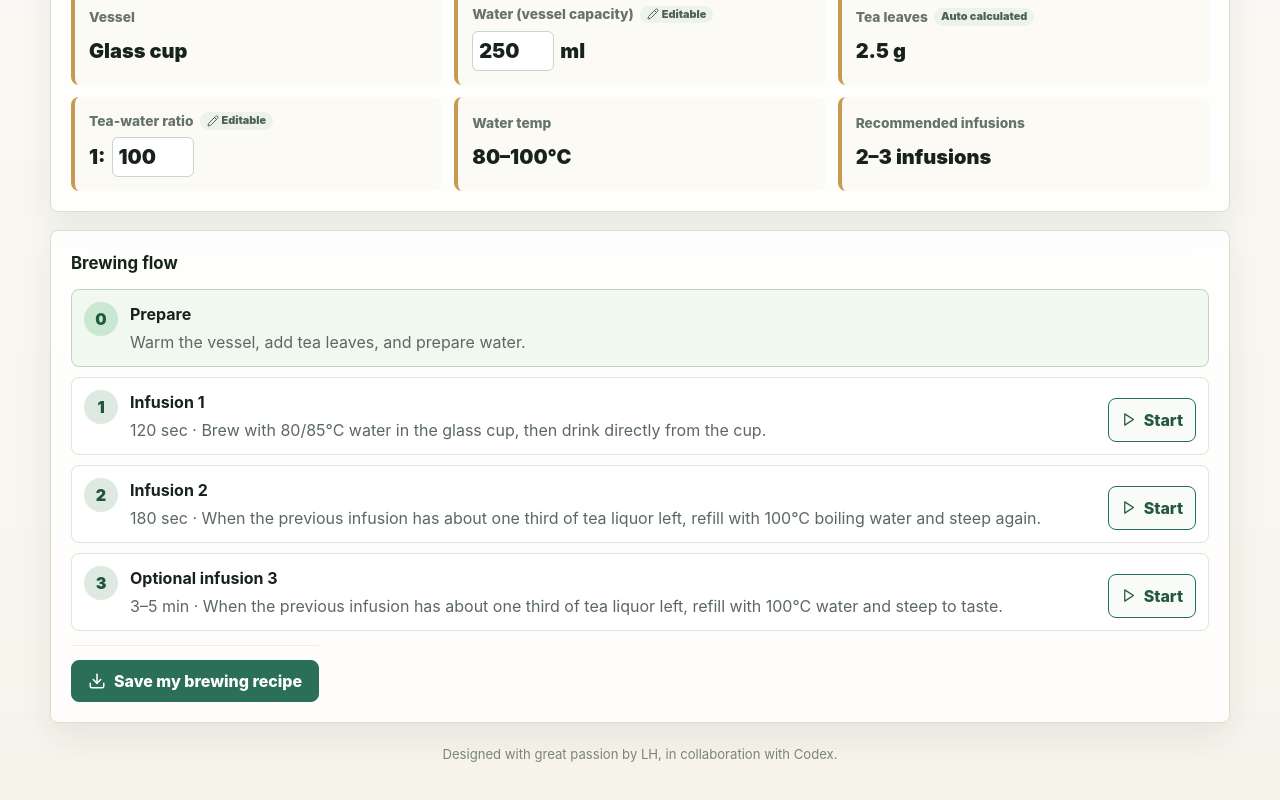
Tea Master app › reopens a closed timer dialog when the countdown finishes
(page scrolled)
Expected: the list item "Infusion 1" is shown, [130, 392, 204, 412]
Step 1. Click the button "Start" in the row of "Infusion 1" → [1152, 420], box [1108, 398, 1196, 442]
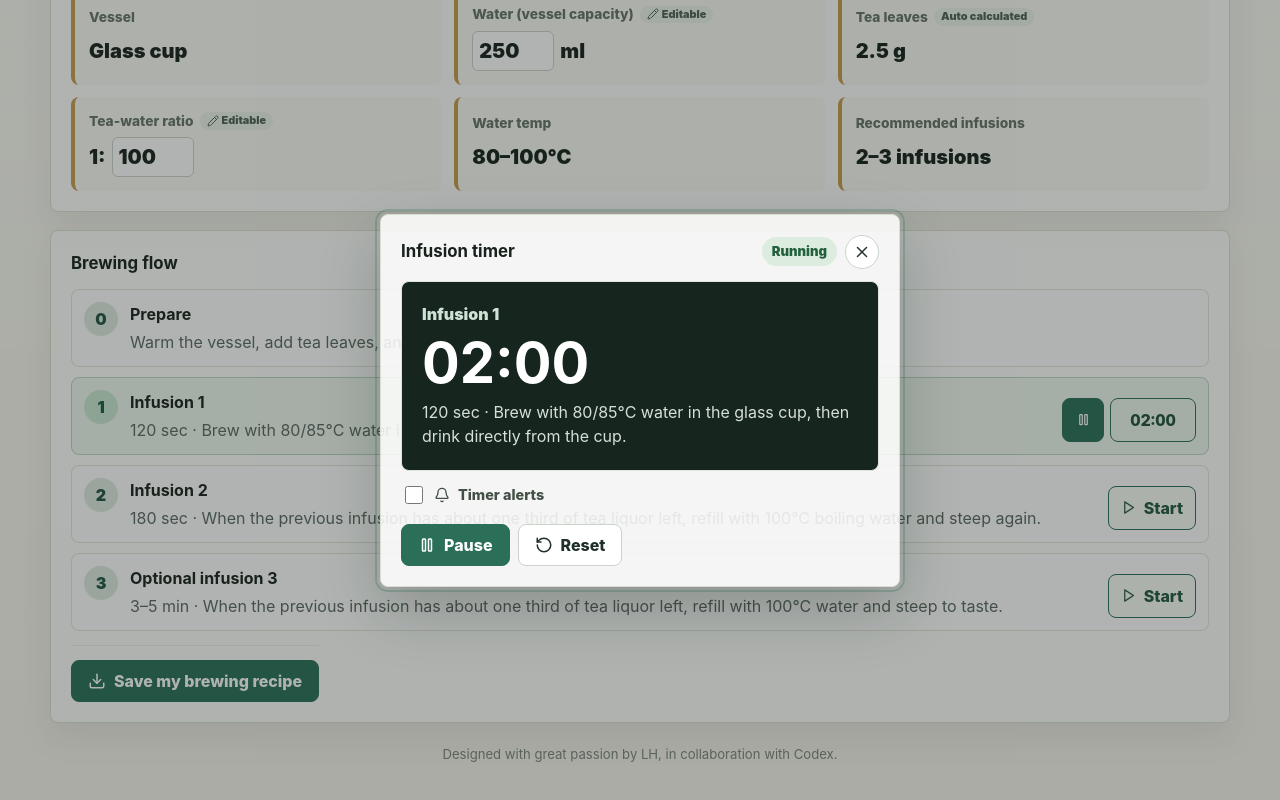
Step 2. Click the button named "Close timer" → [862, 252], box [845, 234, 879, 268]
Wait 120000 ms
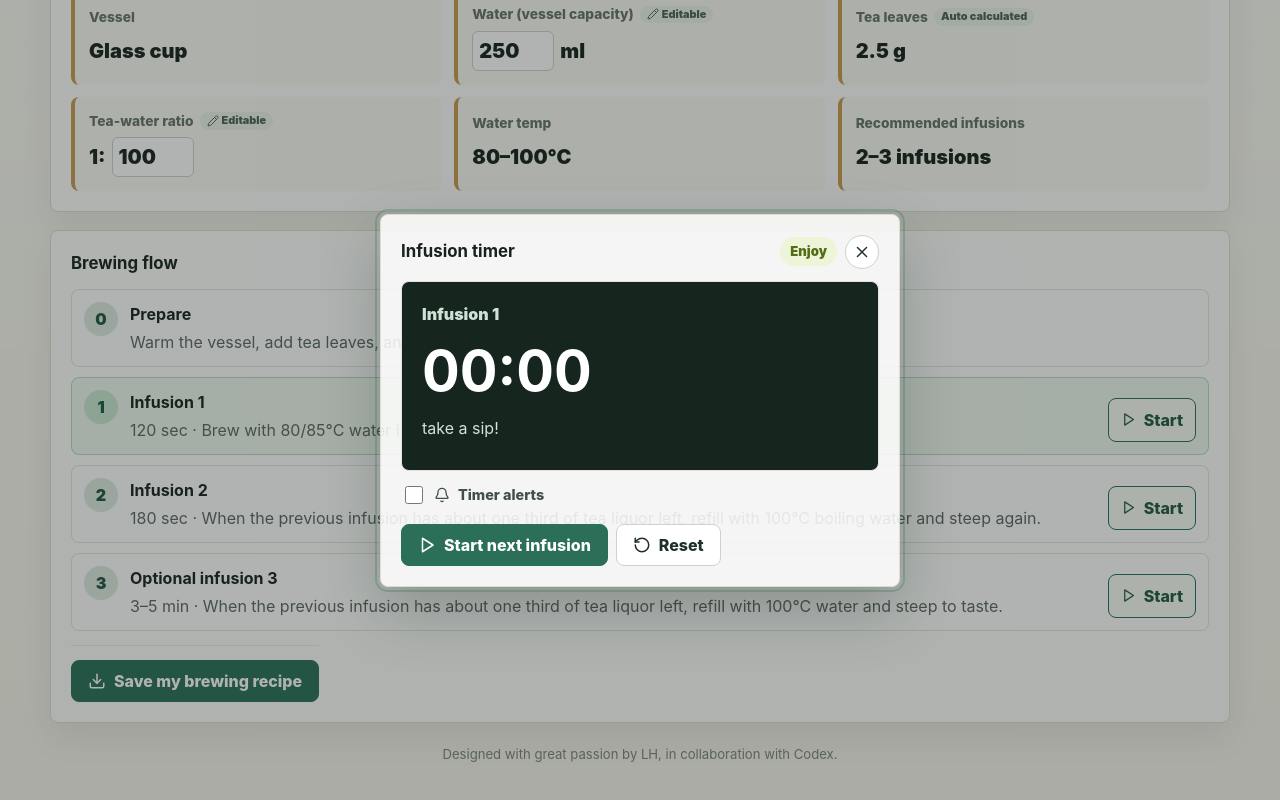
Expected: the text with test id "timer-display" reads "00:00", [422, 337, 592, 405]
Expected: the text "take a sip!" is shown, [422, 418, 499, 438]
